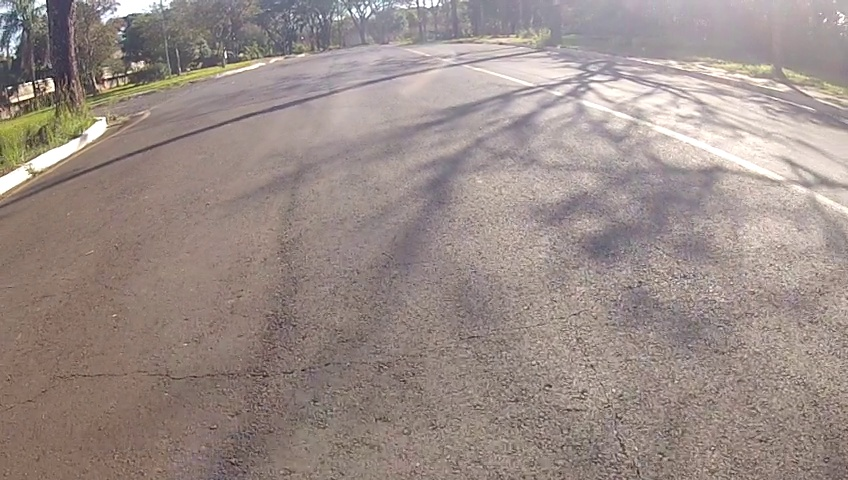TLT: (54, 347, 439, 394), (558, 334, 657, 480)
